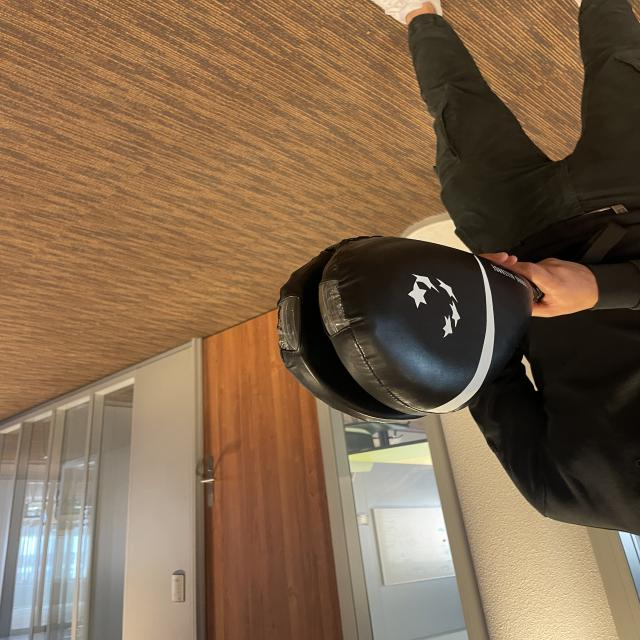paddle: (275, 235, 529, 422)
